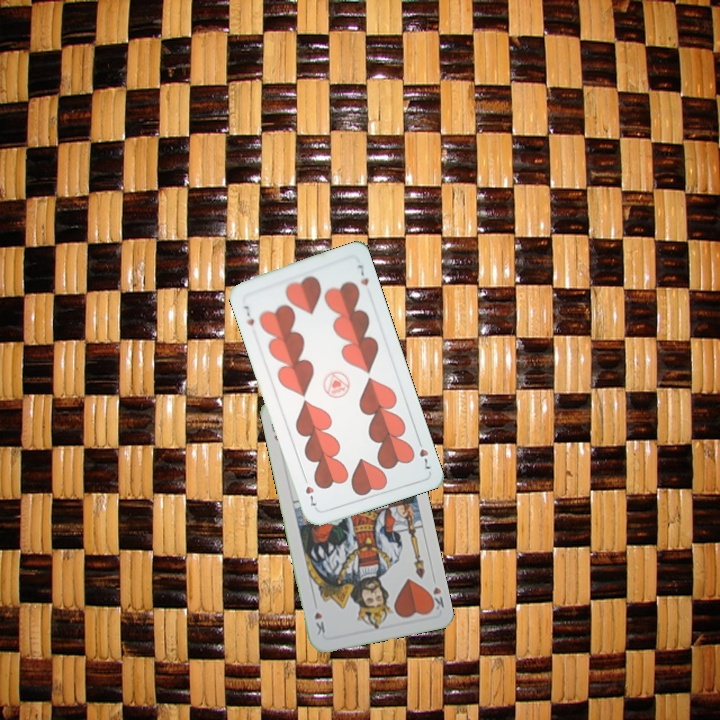H7: (413, 434, 433, 473), (240, 301, 257, 328)
HK: (424, 572, 447, 614)
